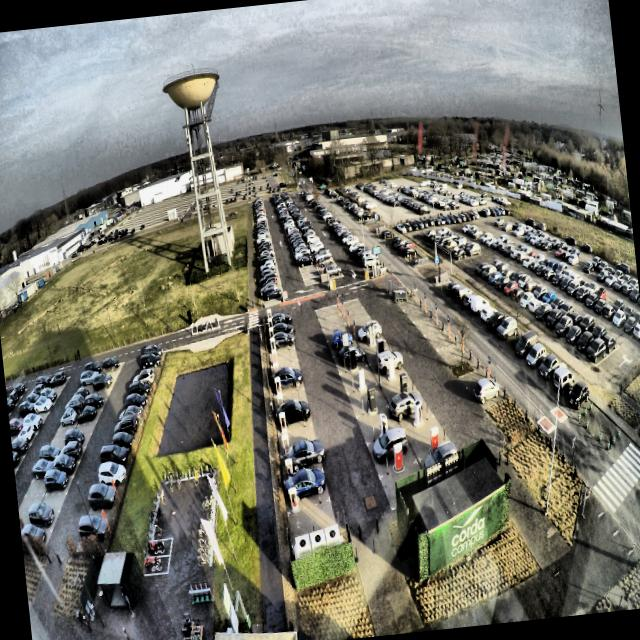cabinet: (294, 524, 340, 553)
car: (284, 467, 326, 506), (283, 438, 328, 470), (276, 399, 311, 429), (271, 366, 303, 389), (268, 330, 296, 348), (269, 320, 296, 337), (270, 311, 292, 328)
parking: (288, 499, 337, 545), (284, 471, 329, 512), (281, 446, 322, 480), (278, 423, 318, 456), (275, 404, 312, 434), (271, 368, 304, 395), (274, 388, 308, 411), (270, 357, 300, 376), (269, 347, 297, 364), (268, 337, 295, 354), (266, 326, 293, 343), (265, 316, 291, 333)
supercharger: (288, 487, 299, 511), (284, 458, 294, 478), (278, 412, 287, 433), (281, 433, 290, 452), (274, 376, 281, 391), (276, 394, 283, 407), (272, 362, 279, 374), (269, 338, 276, 349), (271, 350, 277, 361), (266, 308, 272, 319), (268, 327, 274, 336), (267, 318, 273, 326)
